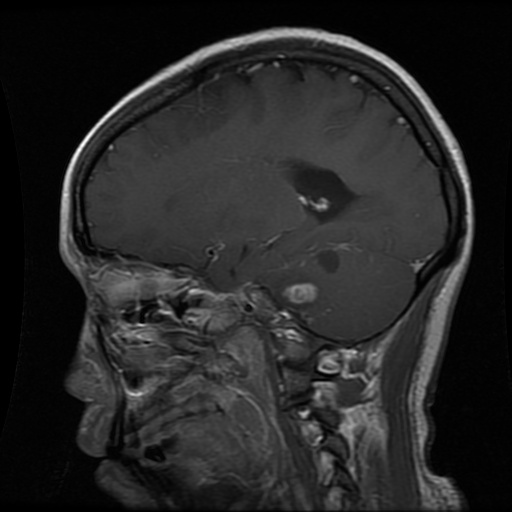glioma: (286, 282, 316, 301)
